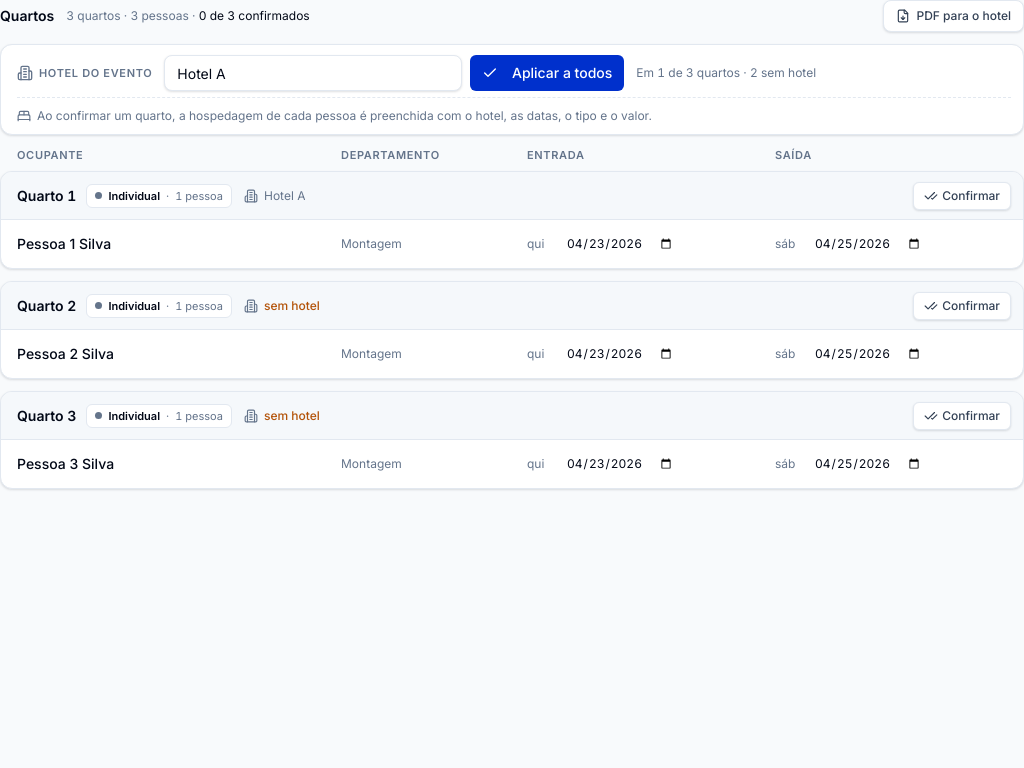
Test: PDF para o hotel sem hotel definido › com e sem hotel: cada hotel + "Sem hotel definido (N quartos)"
The width and height of the screenshot is (1024, 768).
Click the button with test id "quartos-pdf-hotel" at [954, 16], box top-left (884, 0), bottom-right (1023, 32)
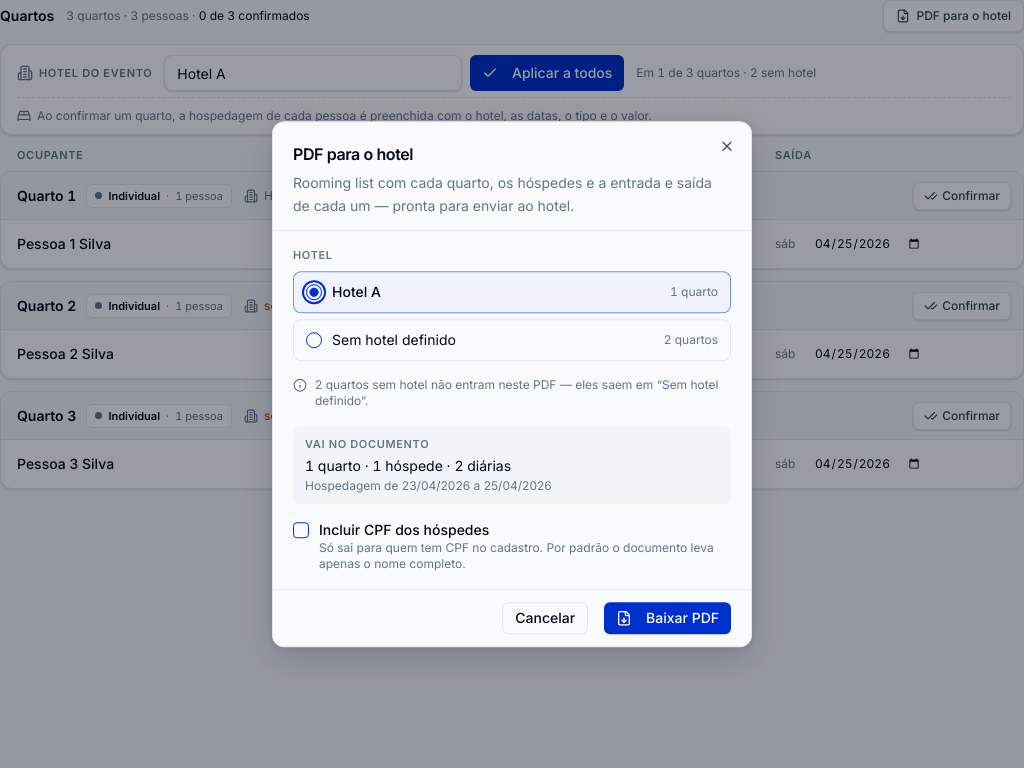
expect the number of radio buttons is 2: met, box top-left (306, 284), bottom-right (322, 300); top-left (306, 332), bottom-right (322, 348)
expect the element with test id "rooming-quartos-sem-hotel" shows "2 quartos sem hotel não entram neste PDF": met, box top-left (315, 377), bottom-right (718, 408)
expect the label with test id "rooming-opcao-sem-hotel" reads "Sem hotel definido 2 quartos": met
Click the label with test id "rooming-opcao-sem-hotel" at [394, 339], box top-left (293, 319), bottom-right (731, 361)
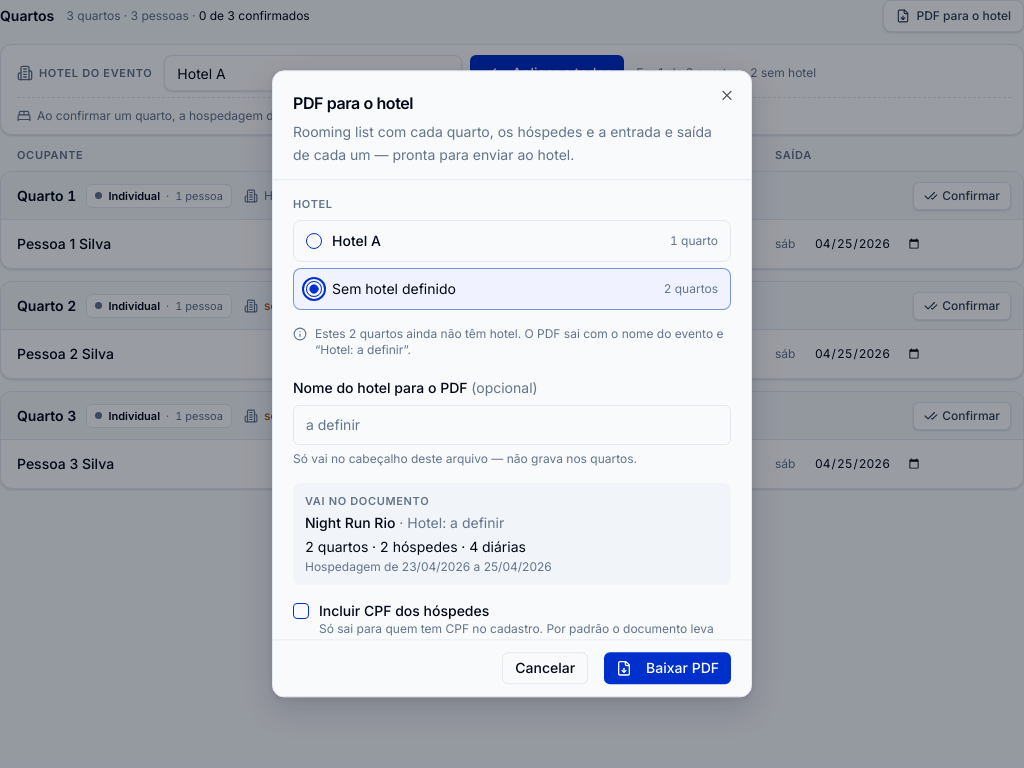
expect the button with test id "rooming-baixar" is enabled: met, box top-left (604, 653), bottom-right (731, 685)
expect the field with test id "rooming-nome-no-pdf" is shown: met, box top-left (293, 405), bottom-right (731, 445)
